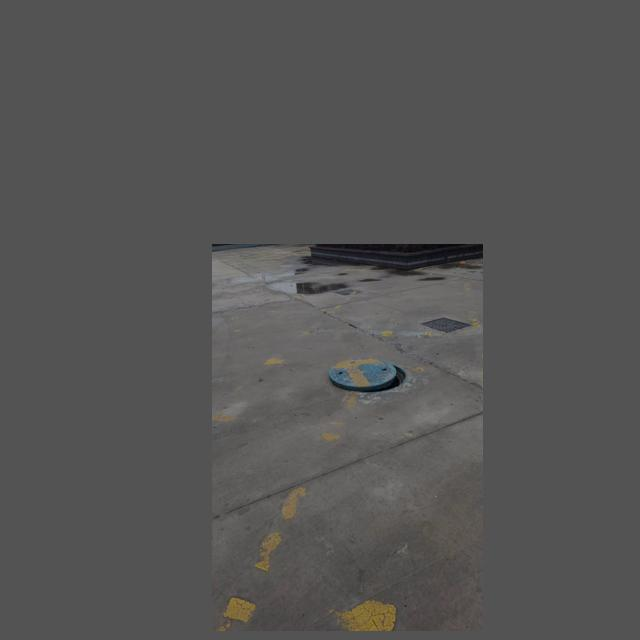uncovered: (329, 359, 407, 393)
